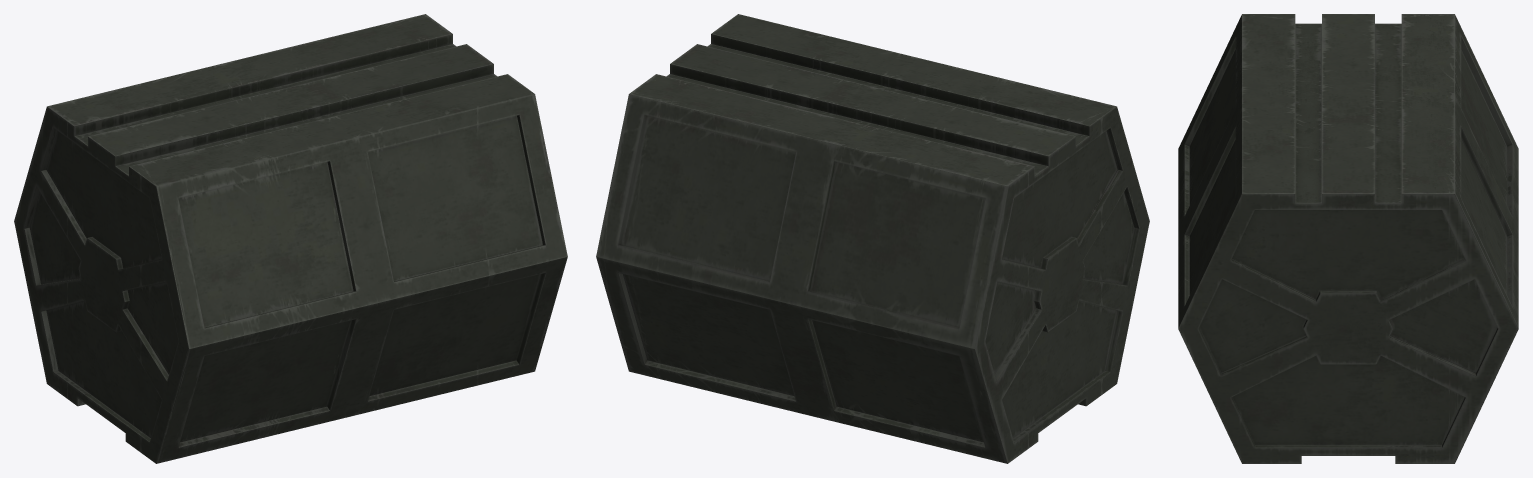
The model's file is container_green.fbx.
The picture shows the model from 3 angles, left to right: view 1: azimuth 30°, elevation 25°; view 2: azimuth 150°, elevation 25°; view 3: azimuth 270°, elevation 25°; orthographic projection. The views are drawn at different scales.
Parts seen in each view (by area): view 1: container; view 2: container; view 3: container.
Part boxes in pixels (x1,y1,x2,y2): container: [14, 14, 567, 463]; container: [596, 14, 1149, 463]; container: [1178, 14, 1518, 463].
Bounding box in the file's own units: 400 × 280 × 320.
Materials: 1 (1 with a texture image).
